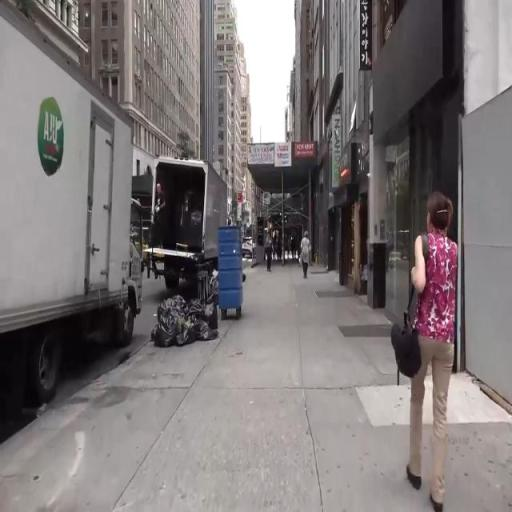person: (399, 180, 461, 512), (300, 231, 317, 281), (267, 231, 276, 275), (291, 235, 297, 264)
